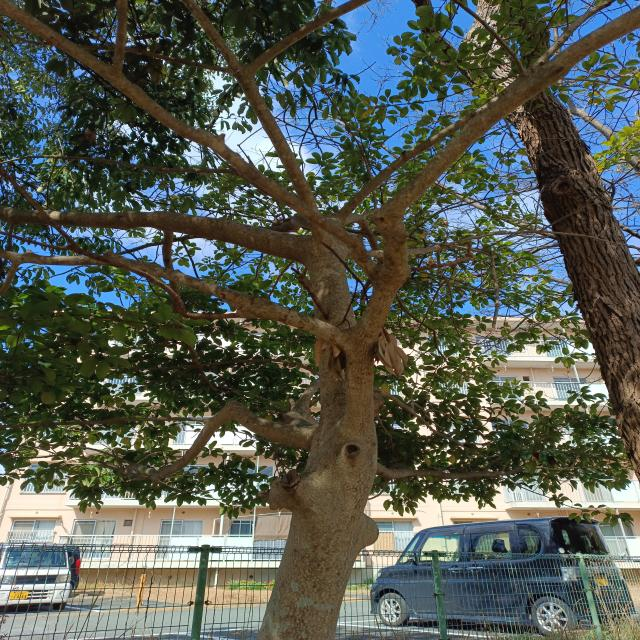Branch: (358, 7, 640, 332), (0, 248, 343, 341), (1, 207, 306, 265), (121, 401, 314, 486), (341, 326, 376, 451), (290, 378, 320, 424)
Twig: (0, 0, 376, 276), (185, 0, 319, 211), (338, 114, 469, 215), (244, 0, 370, 75), (8, 35, 229, 72), (374, 387, 494, 447), (1, 155, 231, 174), (410, 401, 509, 436), (374, 463, 578, 479), (2, 416, 208, 427), (111, 0, 129, 68), (55, 445, 119, 458), (63, 462, 122, 472), (4, 445, 55, 454)
